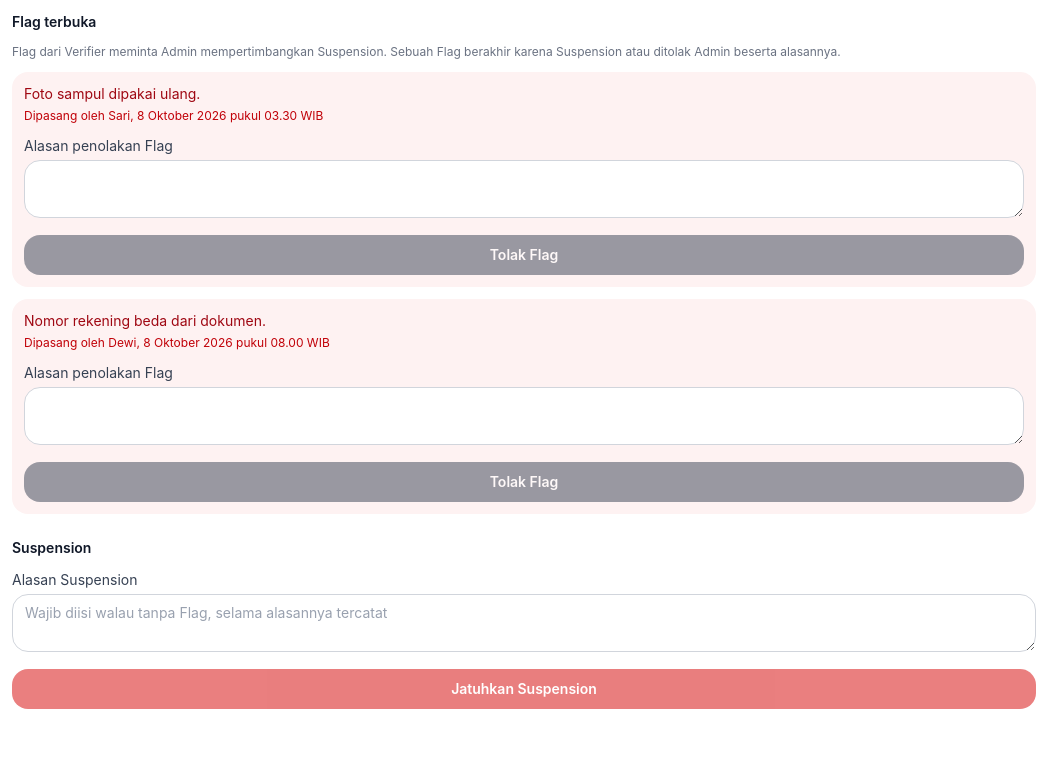
it: AdminCampaignLifecycleActions -- open Flags › keeps each Flag's reason apart and offers no dismissal without one
Expected: the button "Tolak Flag" below "Foto sampul dipakai ulang." is disabled, [24,235,1024,275]
Expected: the button "Tolak Flag" below "Nomor rekening beda dari dokumen." is disabled, [24,462,1024,502]
In the text box labelled "Alasan penolakan Flag" below "Foto sampul dipakai ulang.": (524, 189) [24,160,1024,218], type "Tidak berdasar."
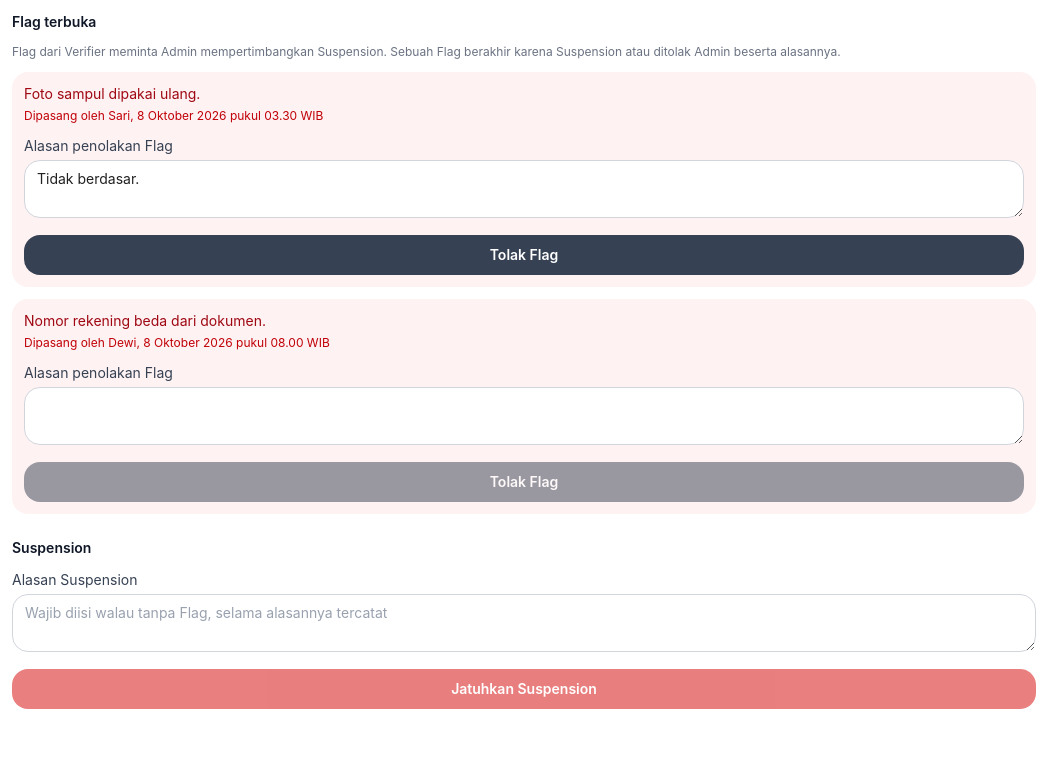
Expected: the button "Tolak Flag" below "Nomor rekening beda dari dokumen." is disabled, [24,462,1024,502]
Now the button "Tolak Flag" below "Foto sampul dipakai ulang." is enabled, box [24,235,1024,275]
